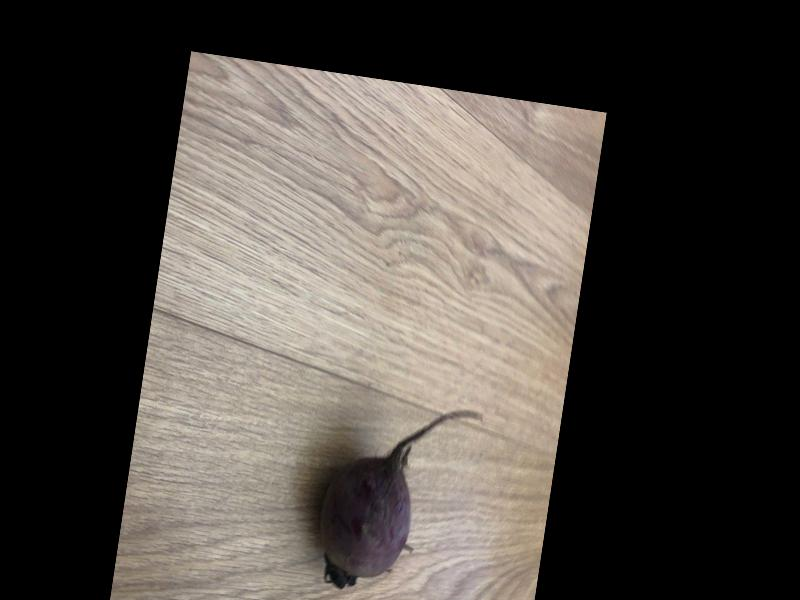Beet: (310, 387, 483, 600)
